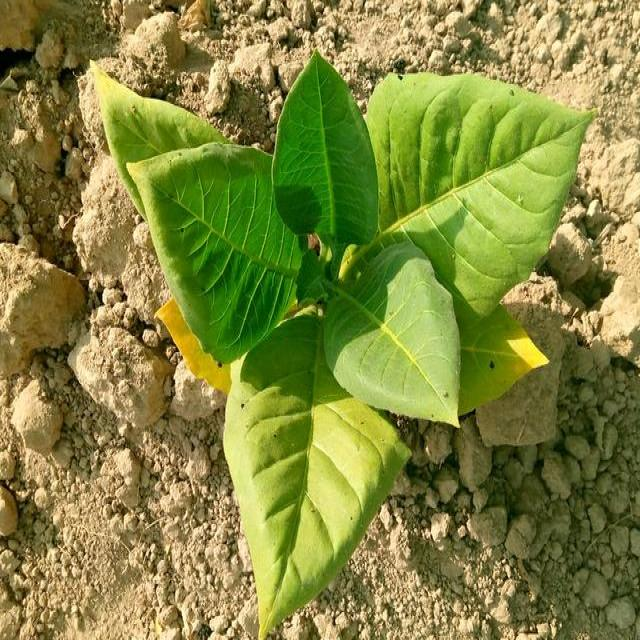crop: (88, 47, 595, 640)
